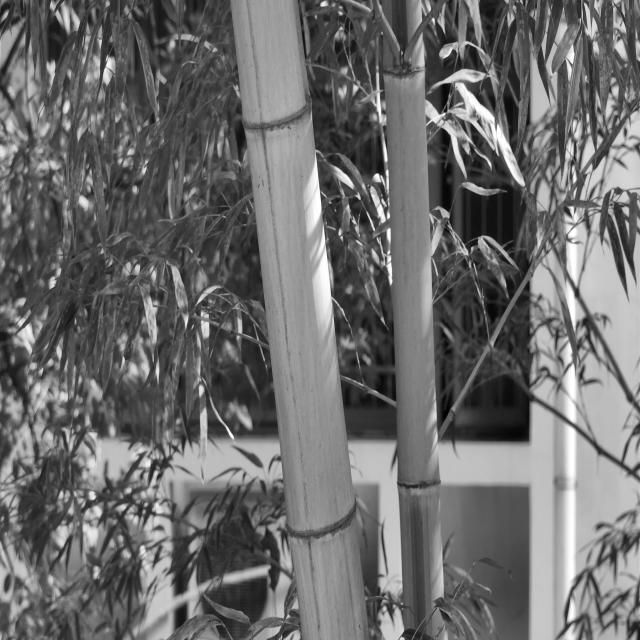Bamboo-shoots: (230, 0, 367, 640), (382, 0, 447, 640)
